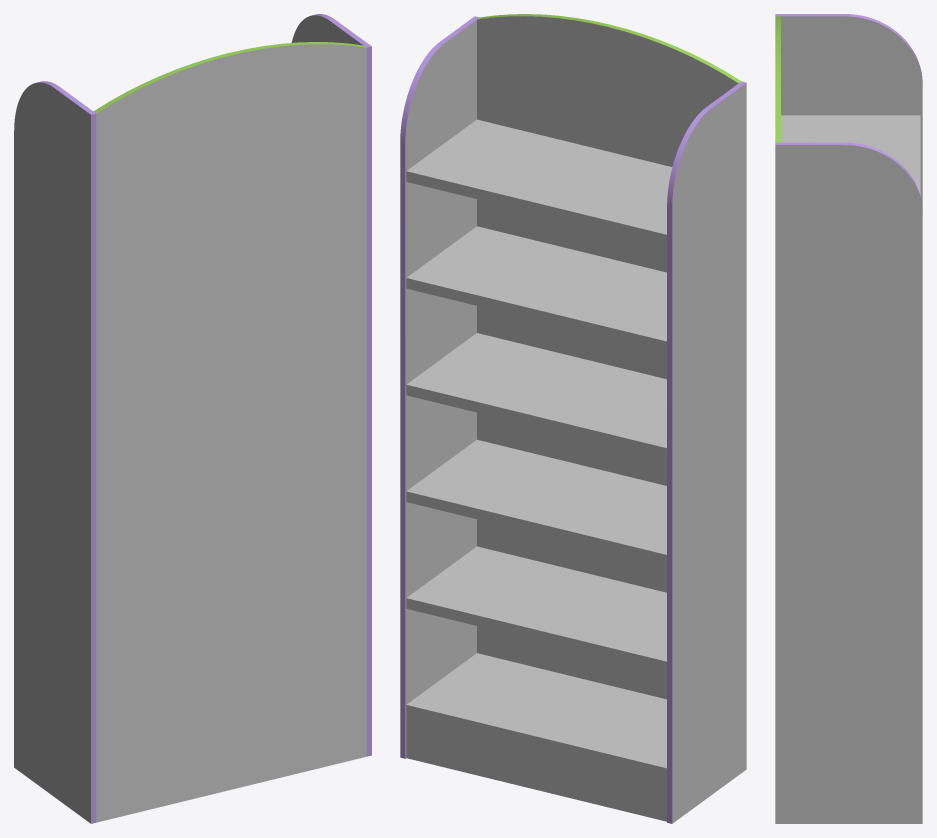
File: ESNI_Colorbook.gltf
The picture shows the model from 3 angles, left to right: view 1: azimuth 30°, elevation 25°; view 2: azimuth 150°, elevation 25°; view 3: azimuth 270°, elevation 25°; orthographic projection. The views are drawn at different scales.
Visible parts, largest first — view 1: Rectangle007, Rectangle367, Rectangle001; view 2: Rectangle367, Rectangle007, Rectangle001, Rectangle002, Rectangle489, Rectangle453, Rectangle397, Rectangle214, Rectangle215, Rectangle213, Rectangle216, Rectangle419 (+2 smaller); view 3: Rectangle001, Rectangle367, Rectangle489, Rectangle007.
Part boxes in pixels (x1,y1,x2,y2): Rectangle007: (93, 42, 366, 822); Rectangle367: (14, 81, 96, 823); Rectangle001: (291, 14, 371, 756); Rectangle367: (667, 81, 746, 823); Rectangle007: (477, 14, 741, 699); Rectangle001: (400, 16, 479, 758); Rectangle002: (406, 653, 666, 821); Rectangle489: (406, 119, 672, 234); Rectangle453: (406, 226, 666, 341); Rectangle397: (407, 333, 666, 447); Rectangle214: (406, 439, 666, 554); Rectangle215: (407, 546, 666, 661); Rectangle213: (406, 491, 666, 565); Rectangle216: (406, 598, 666, 672); Rectangle419: (406, 384, 666, 458); Rectangle001: (775, 142, 922, 823); Rectangle367: (775, 14, 922, 207); Rectangle489: (781, 115, 920, 195); Rectangle007: (775, 16, 780, 142).
Size of the model in its own units: 160 by 400 by 76.
